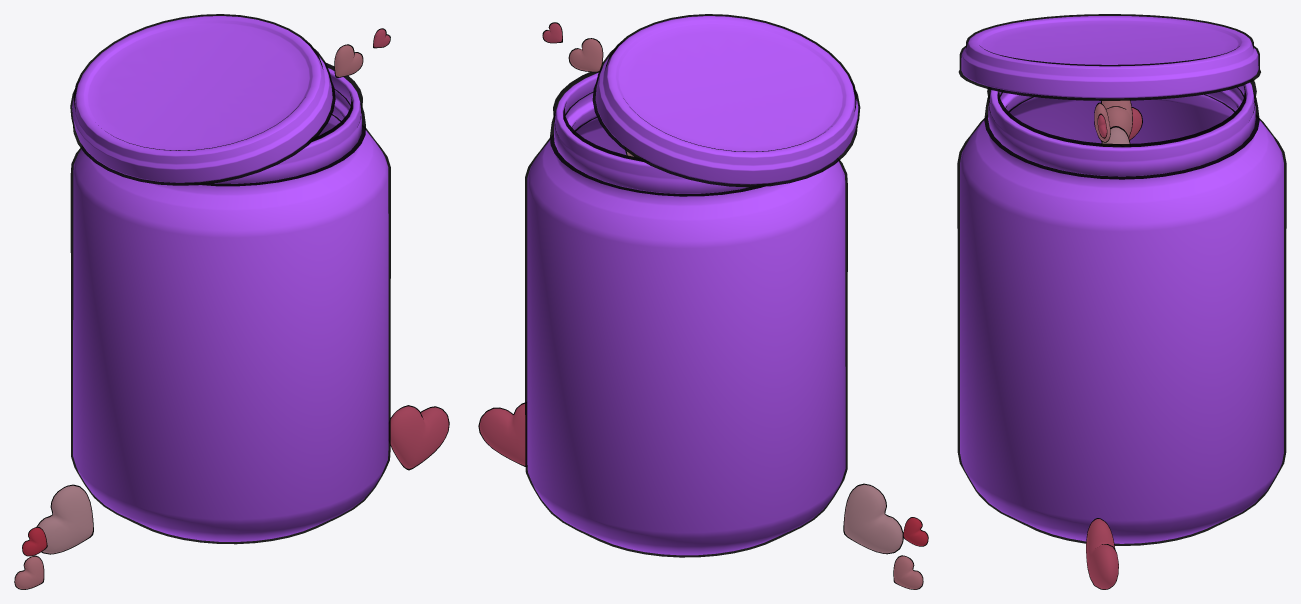
The model's file is heart_can.glb.
3 renders of one model, left to right at view 1: azimuth 30°, elevation 25°; view 2: azimuth 150°, elevation 25°; view 3: azimuth 270°, elevation 25°, orthographic. The views are drawn at different scales.
Parts seen in each view (by area): view 1: Object_8, Object_5, Object_7, Object_3; view 2: Object_8, Object_7, Object_5, Object_3; view 3: Object_8, Object_7, Object_5.
Part boxes in pixels (x1,y1,x2,y2): Object_8: [72, 16, 388, 541]; Object_5: [15, 45, 448, 589]; Object_7: [70, 14, 390, 544]; Object_3: [14, 44, 449, 589]; Object_8: [527, 16, 858, 555]; Object_7: [525, 14, 860, 557]; Object_5: [479, 39, 927, 589]; Object_3: [478, 38, 928, 589]; Object_8: [960, 16, 1283, 543]; Object_7: [957, 14, 1286, 545]; Object_5: [1086, 100, 1141, 589].
Size of the model in its own units: 3.65 by 3.86 by 2.32.
Materials: 5 (1 with a texture image).
